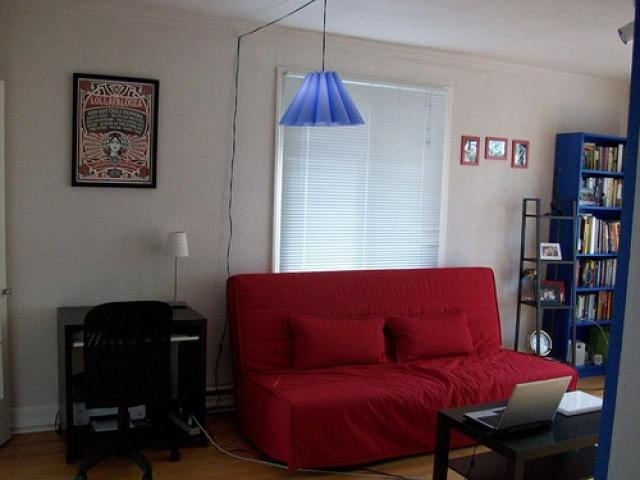Meja: (431, 390, 603, 479)
Rak: (563, 131, 627, 373)
